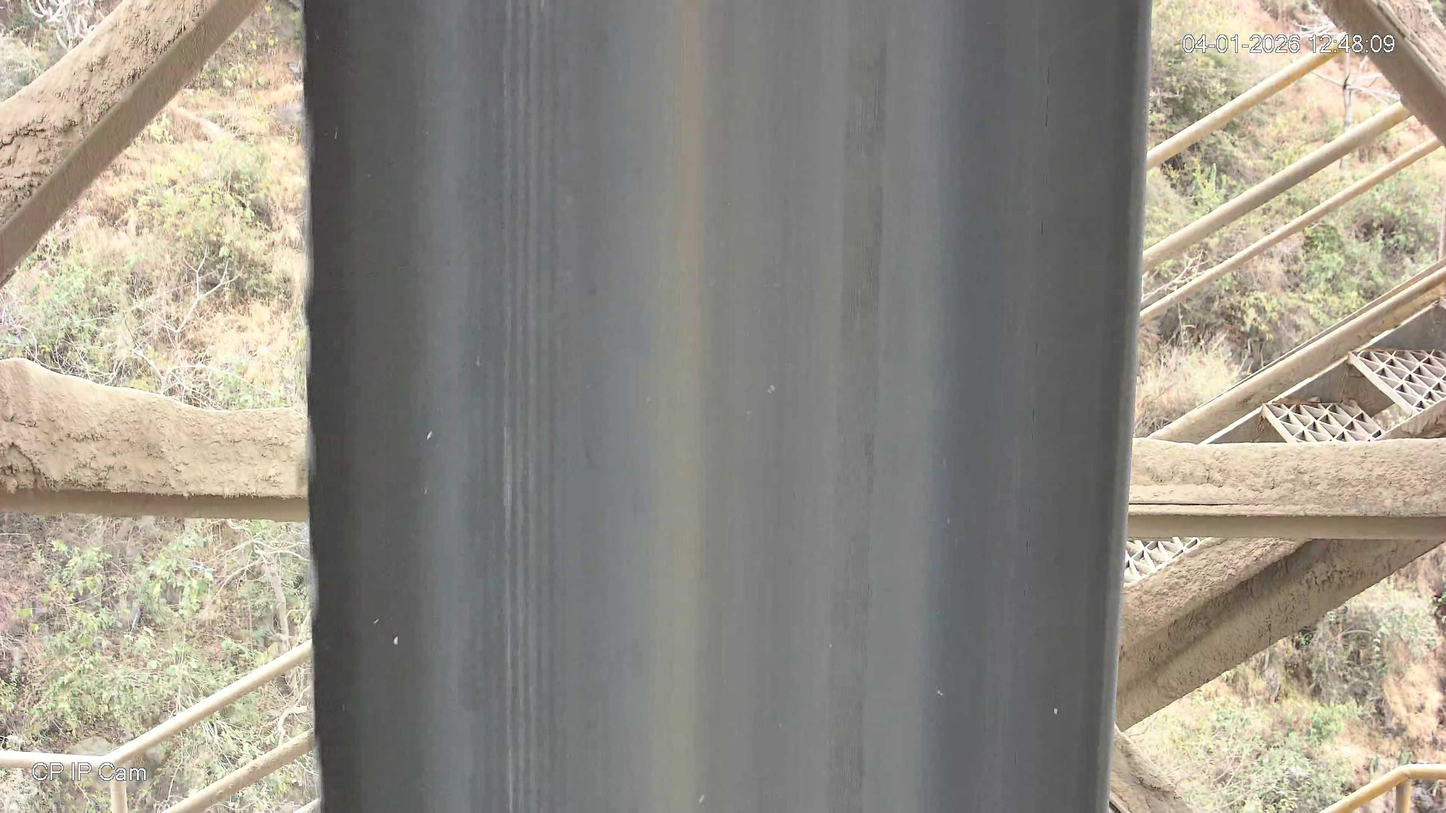belt_roi: (303, 0, 1152, 813)
